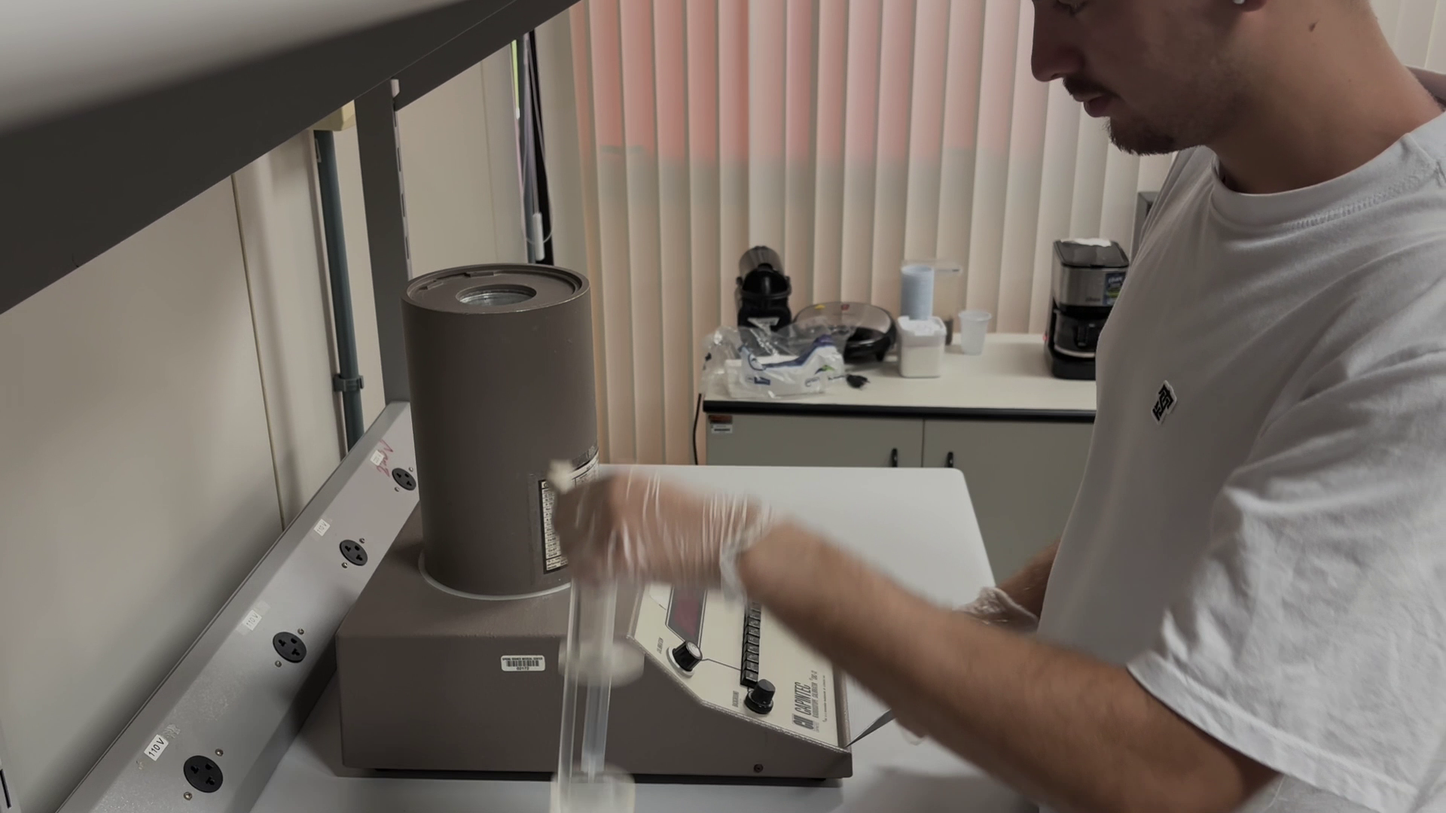Ativimetro: (399, 247, 610, 586)
Cesta: (546, 457, 646, 813)
Com_Luva: (550, 470, 787, 596)
